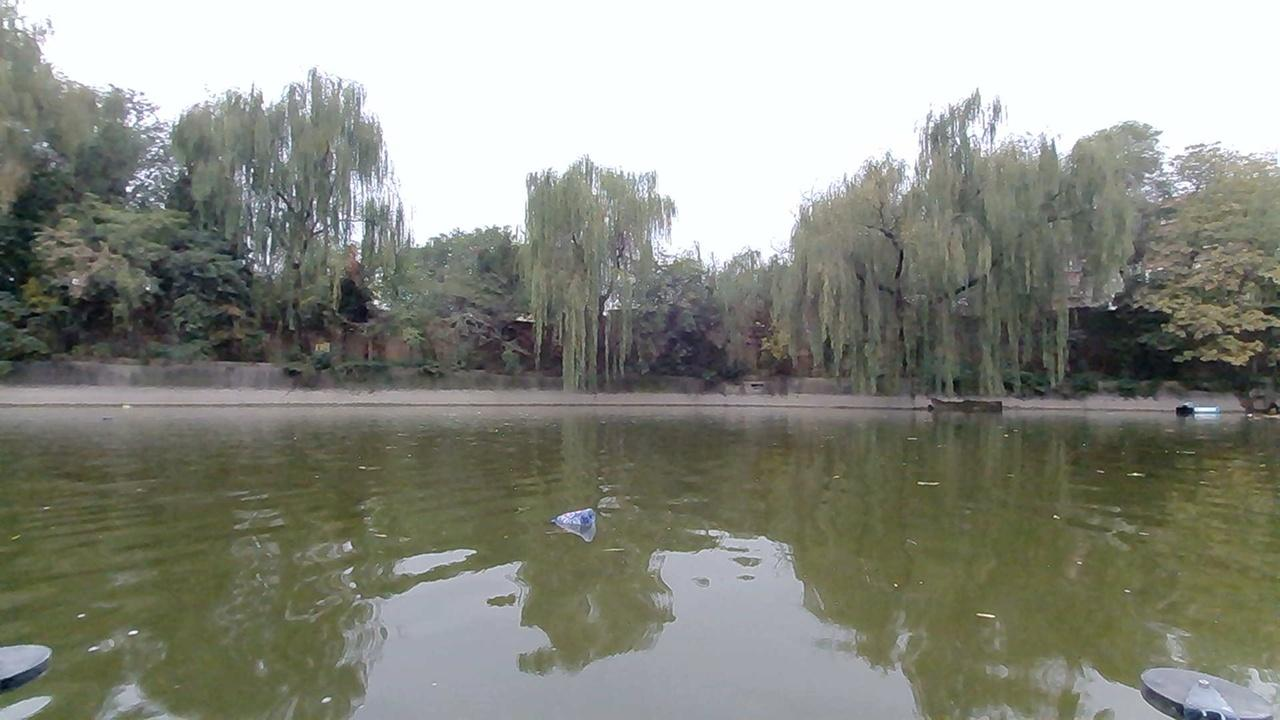bottle: (550, 507, 596, 525)
